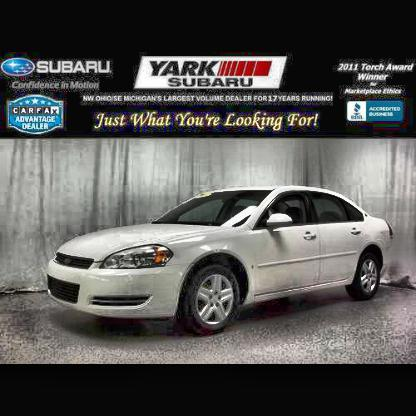Chevrolet Impala Sedan 2007: (48, 186, 397, 338)
